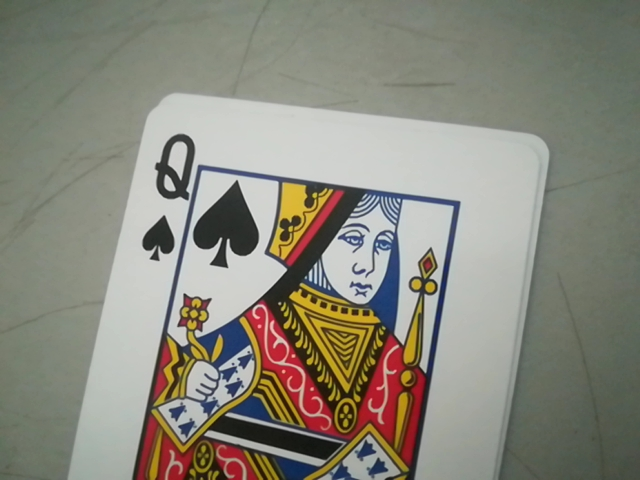ht q: (138, 113, 208, 247)
